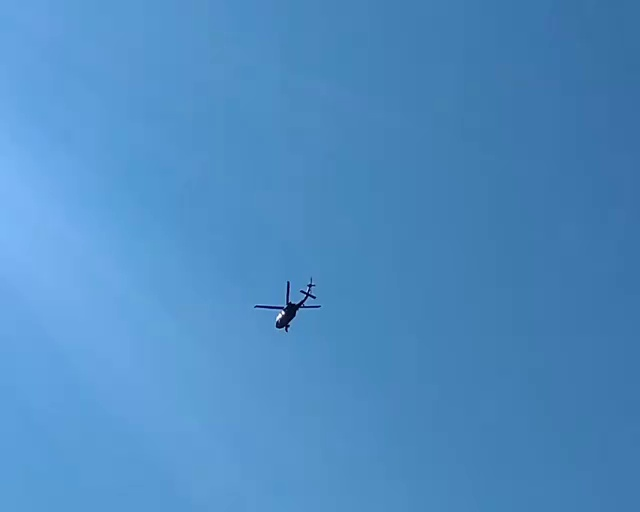HELICOPTER: (253, 276, 321, 332)
